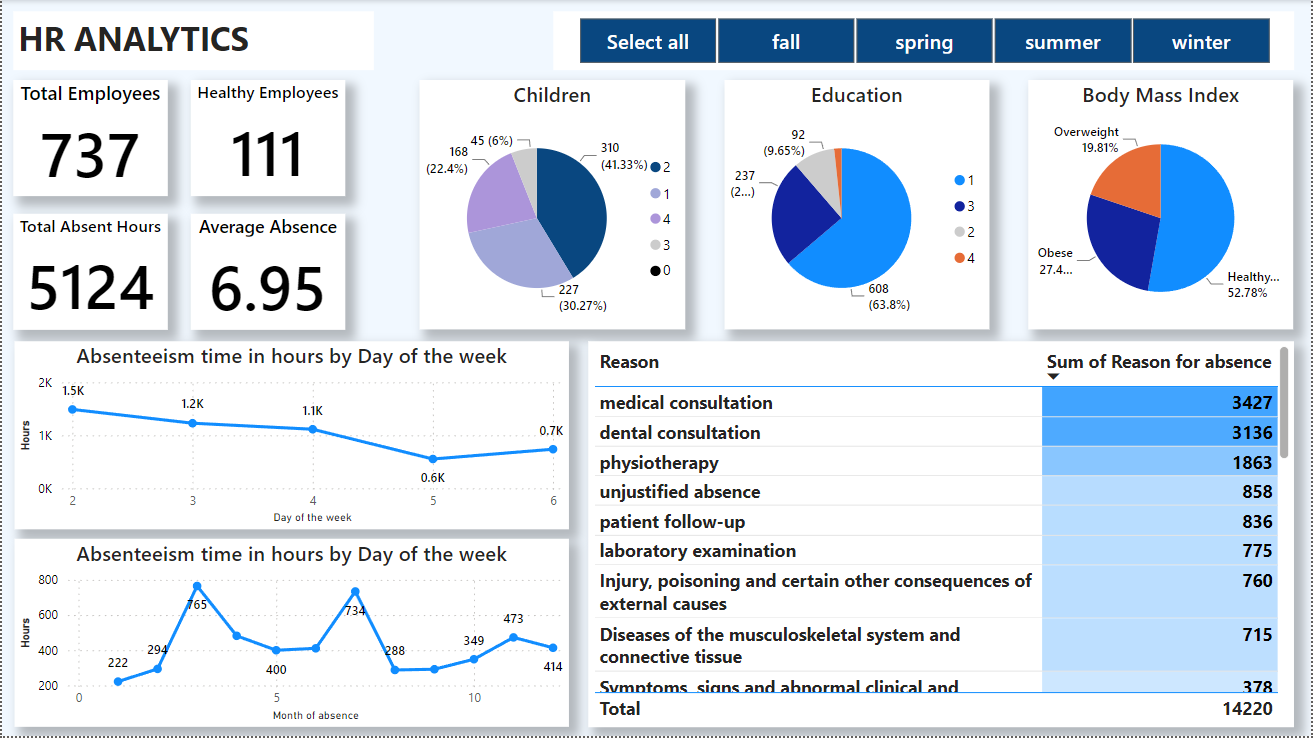

This screenshot's page, from the dashboard's own definition file:
{"tool":"powerbi","page":{"name":"Page 1","canvas":[1280,720],"ordinal":0},"visuals":[{"type":"pieChart","title":"Children","fields":{"Category":["Query1.Children"],"Y":["Sum(Query1.Children)"]},"box":[408.9,78.2,260,244.3],"z":0},{"type":"card","title":"Total Employees","fields":{"Values":["CountNonNull(Query1.ID)"]},"box":[11,78.2,150.9,113.9],"z":1000},{"type":"card","title":"Healthy Employees","fields":{"Values":["Sum(Query2.healthy)"]},"box":[185.2,78.2,150.9,113.9],"z":2000},{"type":"card","title":"Total Absent Hours","fields":{"Values":["Sum(Query1.Absenteeism time in hours)"]},"box":[11,208.6,150.9,113.9],"z":3000},{"type":"card","title":"Average Absence","fields":{"Values":["Query1.AvgAbs"]},"box":[185.2,208.6,150.9,113.9],"z":4000},{"type":"pieChart","title":"Education","fields":{"Y":["Sum(Query1.Education)"],"Category":["Query1.Education"]},"box":[707,78.2,259.3,244.3],"z":5000},{"type":"pieChart","title":"Body Mass Index","fields":{"Category":["Query1.weight_type"],"Y":["CountNonNull(Query1.weight_type)"]},"box":[1004.5,78.2,259.3,244.3],"z":6000},{"type":"textbox","box":[11,11,352.7,57.6],"z":7000},{"type":"slicer","fields":{"Values":["Query1.season_name"]},"box":[539.3,11,724.5,57.6],"z":8000},{"type":"lineChart","title":"Absenteeism time in hours by Day of the week","fields":{"Y":["Sum(Query1.Absenteeism time in hours)"],"Category":["Query1.Day of the week"]},"box":[12.3,333.4,542,183.9],"z":9000},{"type":"lineChart","title":"Absenteeism time in hours by Day of the week","fields":{"Y":["Sum(Query1.Absenteeism time in hours)"],"Category":["Query1.Month of absence"]},"box":[12.3,526.9,542,183.9],"z":10000},{"type":"tableEx","fields":{"Values":["Query1.Reason","Sum(Query1.Reason for absence)"]},"box":[573.6,333.4,690.2,377.4],"z":11000}]}

Visuals, with their boxes in screenshot pixels (x1, y1, x2, y2), scaled from the page's 1280x720 canvas onto the 1313x740 screenshot:
"Children" pieChart: select_region(419, 80, 686, 331)
"Total Employees" card: select_region(11, 80, 166, 197)
"Healthy Employees" card: select_region(190, 80, 345, 197)
"Total Absent Hours" card: select_region(11, 214, 166, 331)
"Average Absence" card: select_region(190, 214, 345, 331)
"Education" pieChart: select_region(725, 80, 991, 331)
"Body Mass Index" pieChart: select_region(1030, 80, 1296, 331)
textbox: select_region(11, 11, 373, 71)
slicer - Query1.season_name: select_region(553, 11, 1296, 71)
"Absenteeism time in hours by Day of the week" lineChart: select_region(13, 343, 569, 532)
"Absenteeism time in hours by Day of the week" lineChart: select_region(13, 542, 569, 731)
tableEx - Query1.Reason x Sum(Query1.Reason for absence): select_region(588, 343, 1296, 731)
